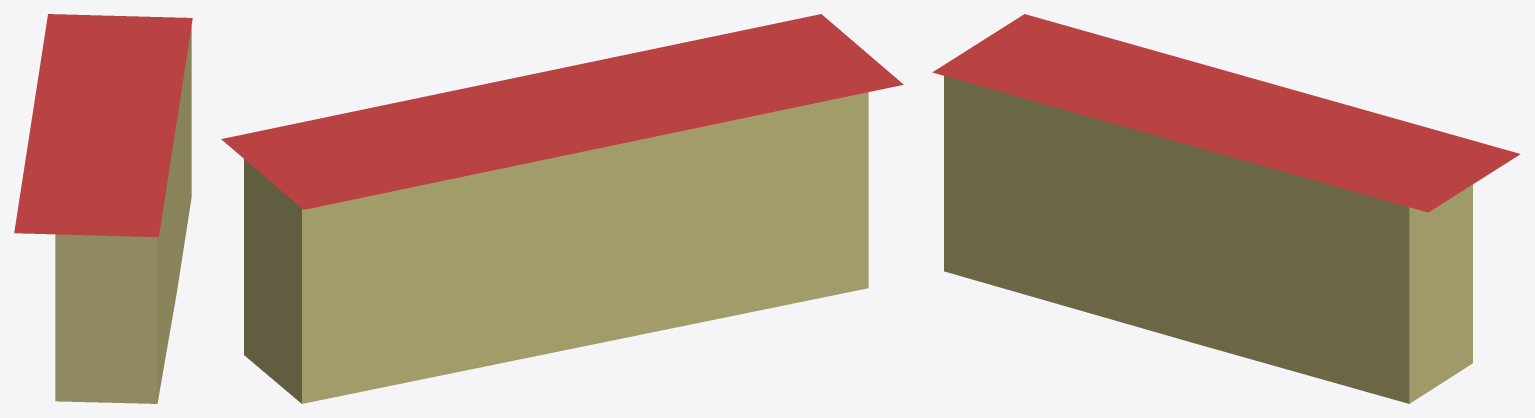
3 views of the same model, side by side, from view 1: azimuth 30°, elevation 25°; view 2: azimuth 150°, elevation 25°; view 3: azimuth 270°, elevation 25° (orthographic). The views are drawn at different scales.
Visible parts, largest first — view 1: group_3, group_5, group_4; view 2: group_5, group_3, group_4; view 3: group_5, group_3, group_4.
Part boxes in pixels (left/top/right/bottom): group_3: left=14, top=14, right=192, bottom=237; group_5: left=55, top=27, right=191, bottom=403; group_4: left=14, top=14, right=191, bottom=237; group_5: left=244, top=92, right=868, bottom=403; group_3: left=221, top=14, right=903, bottom=209; group_4: left=222, top=14, right=900, bottom=208; group_5: left=944, top=76, right=1472, bottom=403; group_3: left=932, top=14, right=1520, bottom=212; group_4: left=934, top=14, right=1519, bottom=211.
Bounding box in the file's own units: 11.99 × 15.03 × 5.54.
